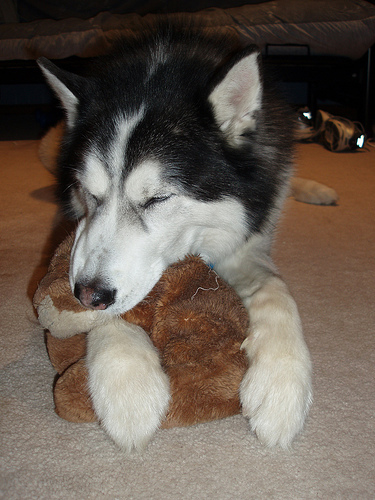dog: (35, 21, 340, 451)
